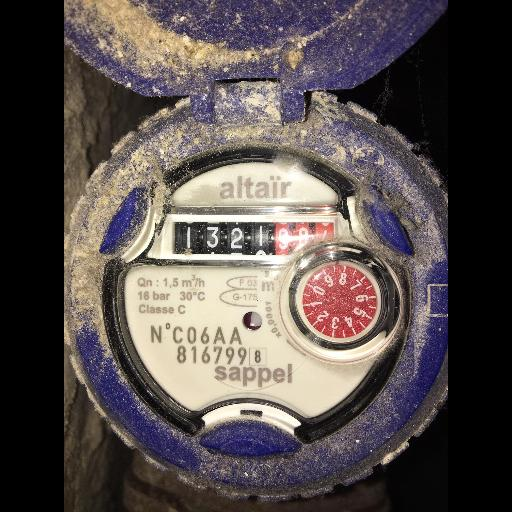1: (180, 222, 199, 255), (252, 222, 269, 255)
2: (227, 222, 245, 255)
3: (204, 222, 223, 254)
8: (294, 222, 310, 252)
9: (276, 222, 292, 254)
border_water_meter_number: (148, 212, 371, 262)
